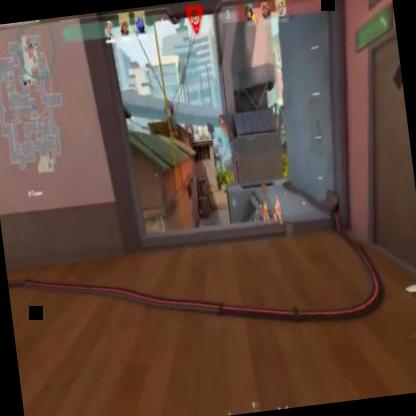enemy: (271, 198, 282, 224), (262, 200, 270, 224)
enemy_head: (275, 200, 279, 206), (263, 200, 265, 204)
